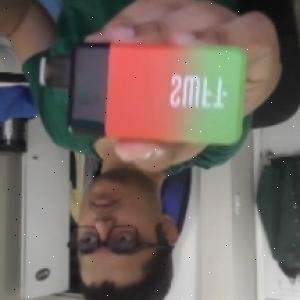Swift-E-Ciggirate: (37, 32, 250, 157)
